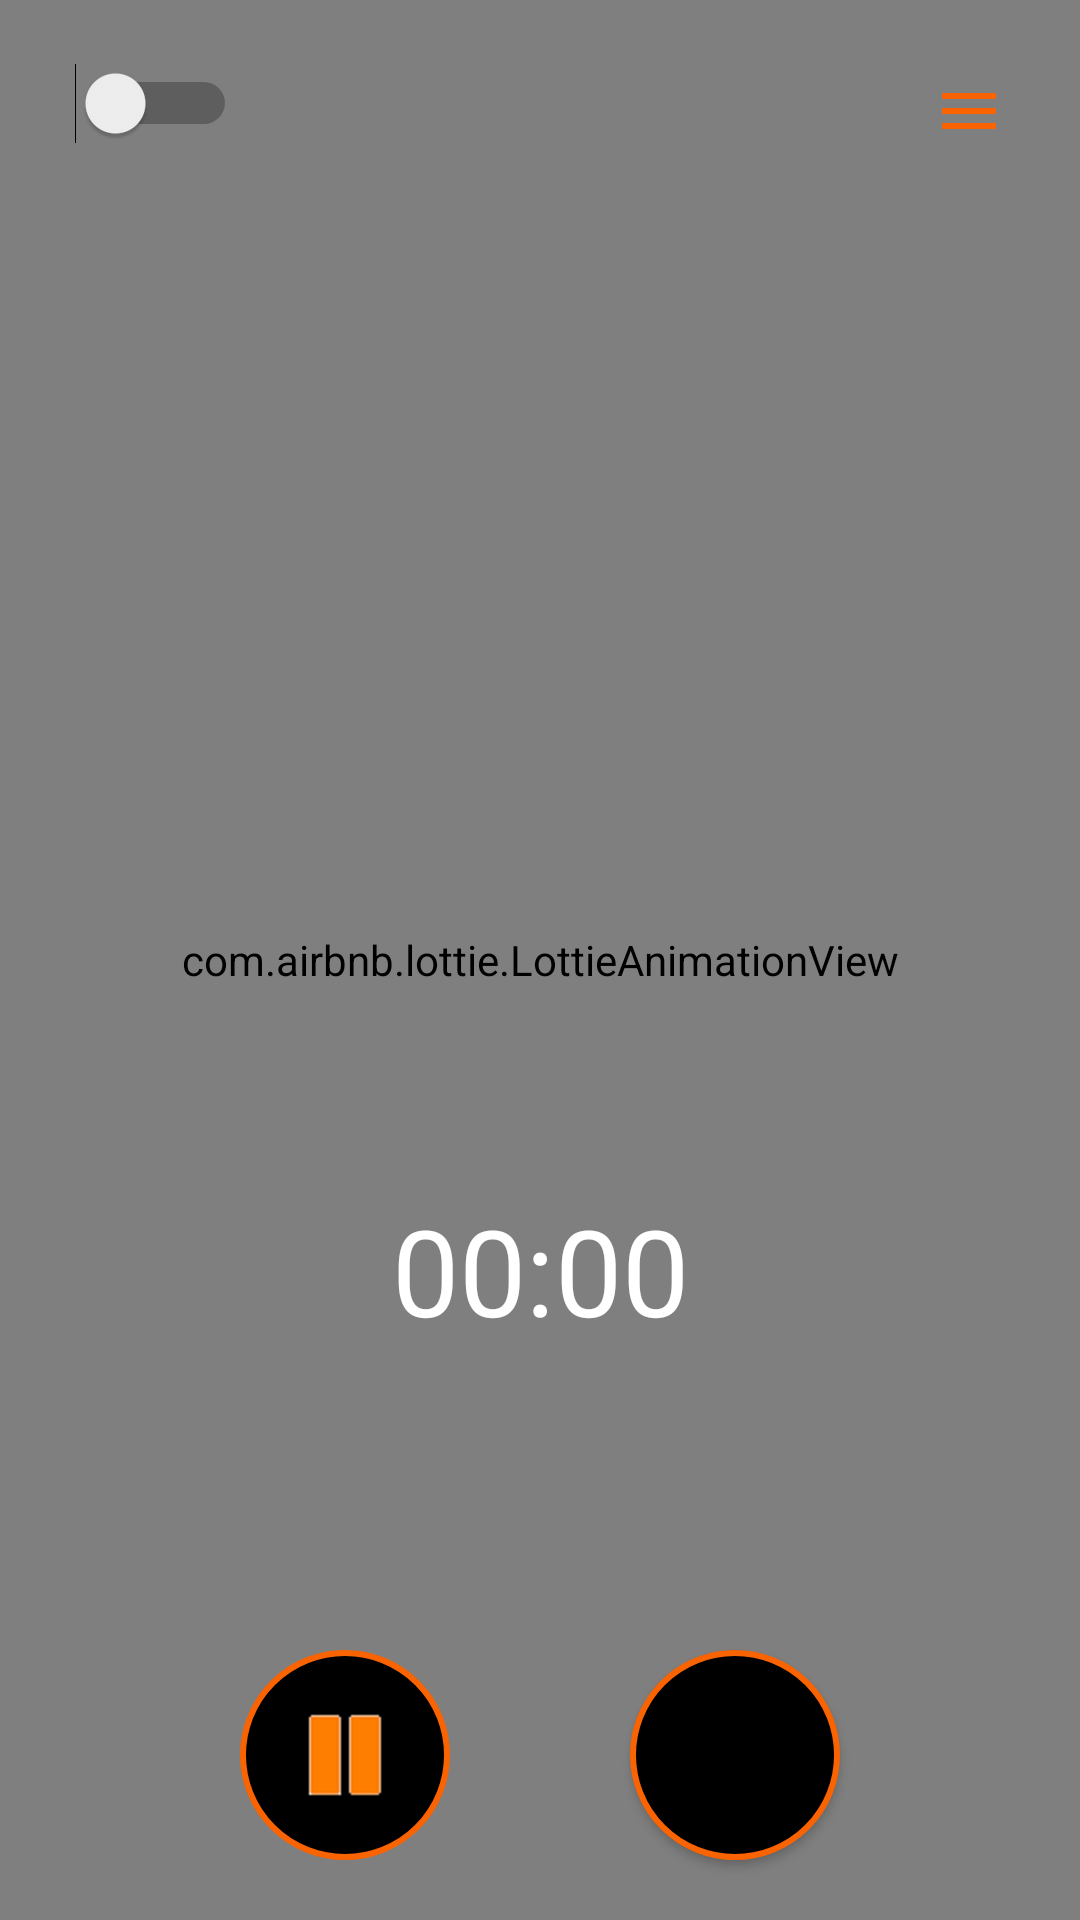

Where to tap for icons on this 1080*1920 app screen, as (x=x, y=y):
menu: (x=969, y=111)
pause: (x=345, y=1755)
